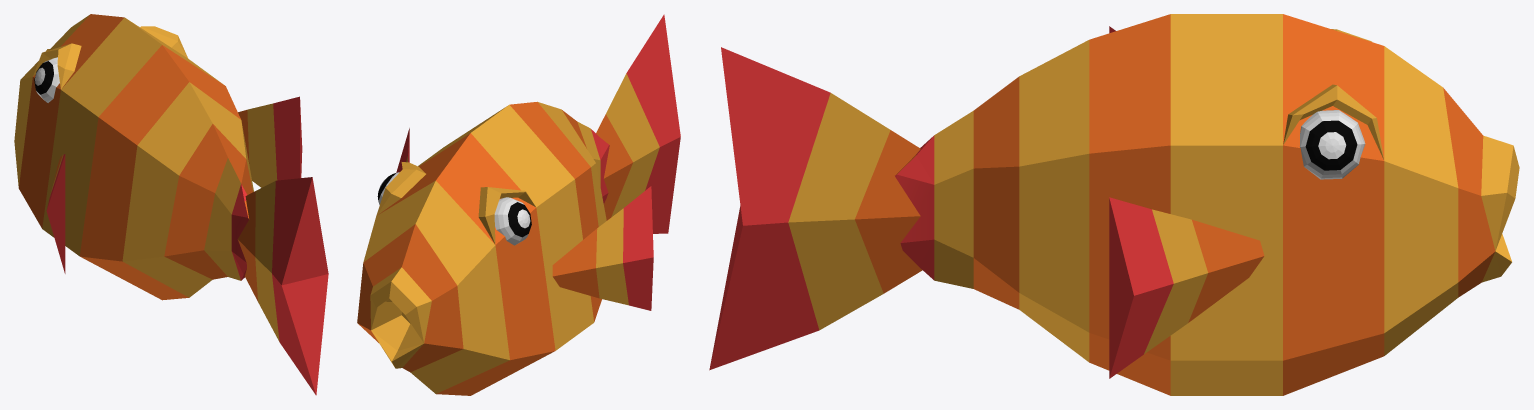
The model's file is Test_NoArmature.fbx.
3 renders of one model, left to right at view 1: azimuth 30°, elevation 25°; view 2: azimuth 150°, elevation 25°; view 3: azimuth 270°, elevation 25°, orthographic. The views are drawn at different scales.
Visible parts, largest first — view 1: Fish_Model, Back_Fins, Fins, Normal_Eyes; view 2: Fish_Model, Back_Fins, Fins, Normal_Eyes; view 3: Fish_Model, Back_Fins, Fins, Normal_Eyes.
Boxes of the visible parts, x1,y1,x2,y2 form: Fish_Model: [14, 14, 253, 300]; Back_Fins: [237, 177, 328, 395]; Fins: [46, 96, 302, 273]; Normal_Eyes: [34, 57, 59, 102]; Fish_Model: [357, 101, 609, 395]; Back_Fins: [596, 14, 680, 233]; Fins: [396, 128, 653, 310]; Normal_Eyes: [377, 172, 531, 245]; Fish_Model: [895, 14, 1519, 395]; Back_Fins: [709, 47, 922, 370]; Fins: [1109, 26, 1264, 378]; Normal_Eyes: [1299, 110, 1365, 179].
Size of the model in its own units: 97.81 by 93.33 by 179.
